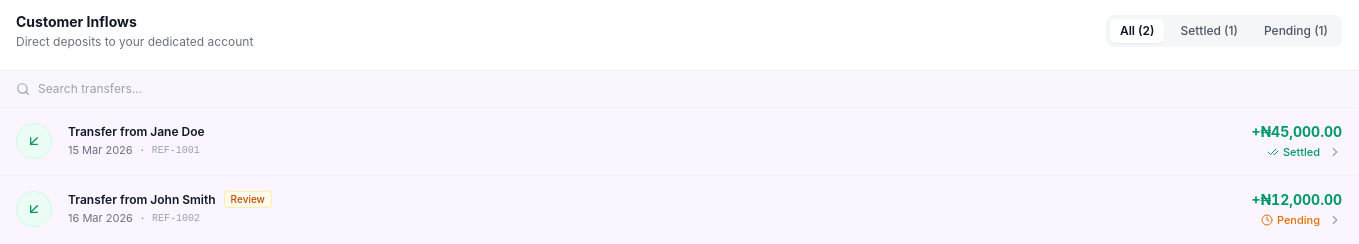
Test: DvaTransactionsTable › filters transactions when Settled chip is clicked
Step 1. Click the button "Settled (1)" → click(1209, 31), box [1170,19,1248,43]
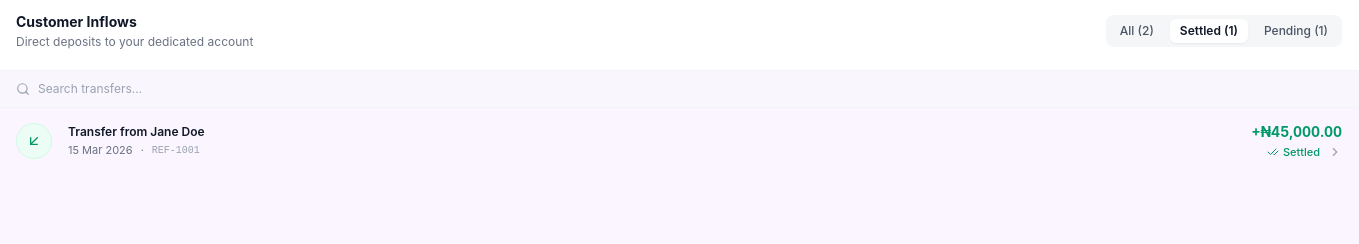
Expected: the text "Transfer from Jane Doe" is shown, [68,124,205,140]
Result: the text "Transfer from John Smith" is gone
